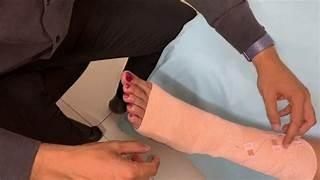Bandage: (138, 84, 316, 179)
